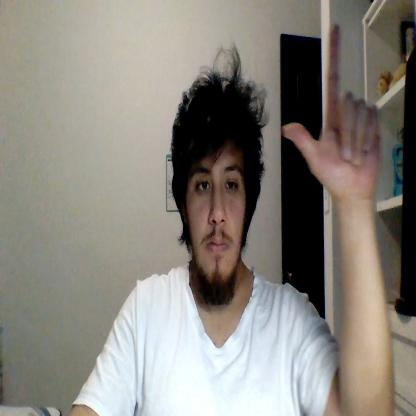L: (284, 22, 380, 199)
